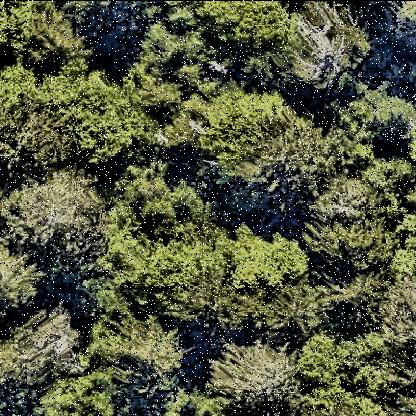tree-top: (294, 329, 389, 416), (72, 77, 162, 165), (23, 169, 100, 270), (284, 2, 370, 90), (331, 79, 416, 166), (87, 311, 183, 388), (210, 340, 304, 416), (117, 156, 205, 237), (219, 226, 319, 290), (248, 120, 331, 197), (11, 307, 89, 380), (202, 86, 257, 182), (117, 244, 196, 310), (3, 109, 71, 181), (313, 221, 385, 276), (196, 2, 278, 49), (142, 18, 203, 80), (366, 153, 416, 226), (1, 249, 51, 319), (23, 12, 78, 72), (1, 62, 68, 111), (33, 379, 116, 416), (265, 281, 317, 339), (380, 281, 416, 356), (314, 177, 366, 226), (388, 2, 416, 42)
